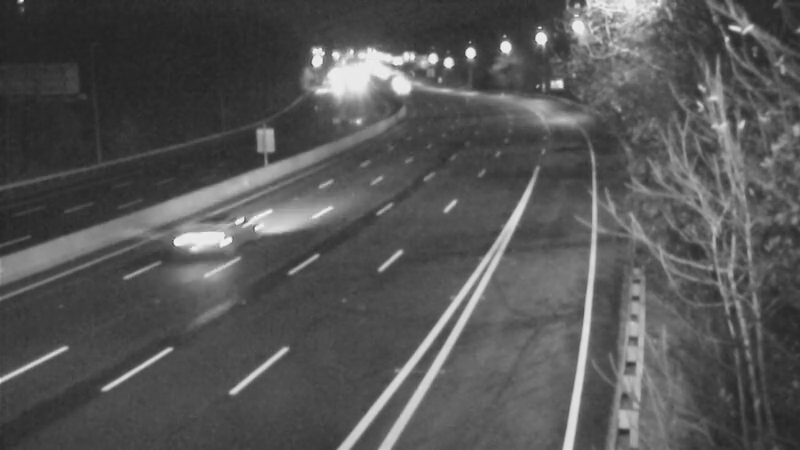vehicle: (165, 189, 245, 269), (378, 62, 428, 112)
